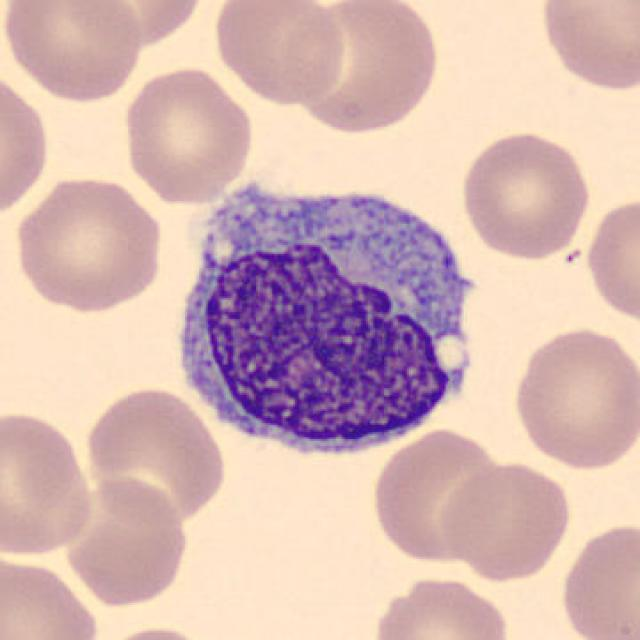Monocyte: (167, 162, 497, 468)
RBC: (11, 171, 167, 316), (286, 0, 444, 138), (80, 383, 229, 529), (368, 425, 510, 568), (119, 62, 256, 206), (508, 322, 638, 472), (457, 127, 594, 261), (62, 474, 192, 610), (438, 458, 574, 584), (0, 0, 146, 104), (210, 0, 350, 108), (0, 407, 98, 559), (555, 518, 638, 640), (534, 0, 638, 95), (368, 573, 514, 640), (0, 552, 103, 640), (0, 65, 55, 224), (582, 192, 638, 326), (62, 0, 211, 49), (87, 622, 217, 640)
